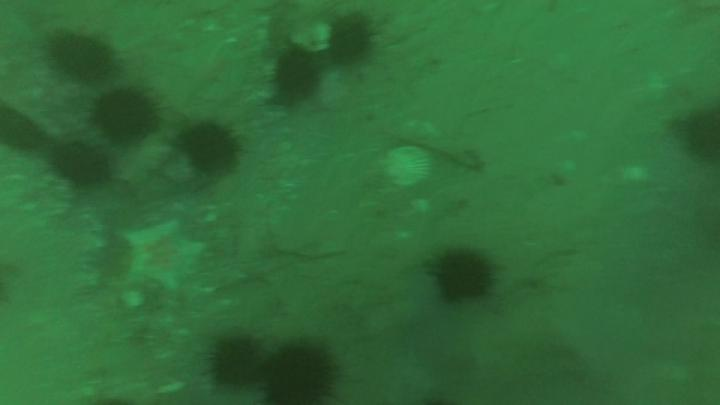echinus: (83, 82, 172, 156), (169, 110, 252, 184), (259, 330, 344, 402), (421, 240, 503, 311), (41, 25, 129, 89), (193, 321, 266, 398), (318, 5, 383, 75), (53, 128, 117, 193), (265, 45, 324, 106), (1, 99, 46, 158)
scallop: (384, 141, 431, 194)
starfish: (116, 223, 205, 297)
